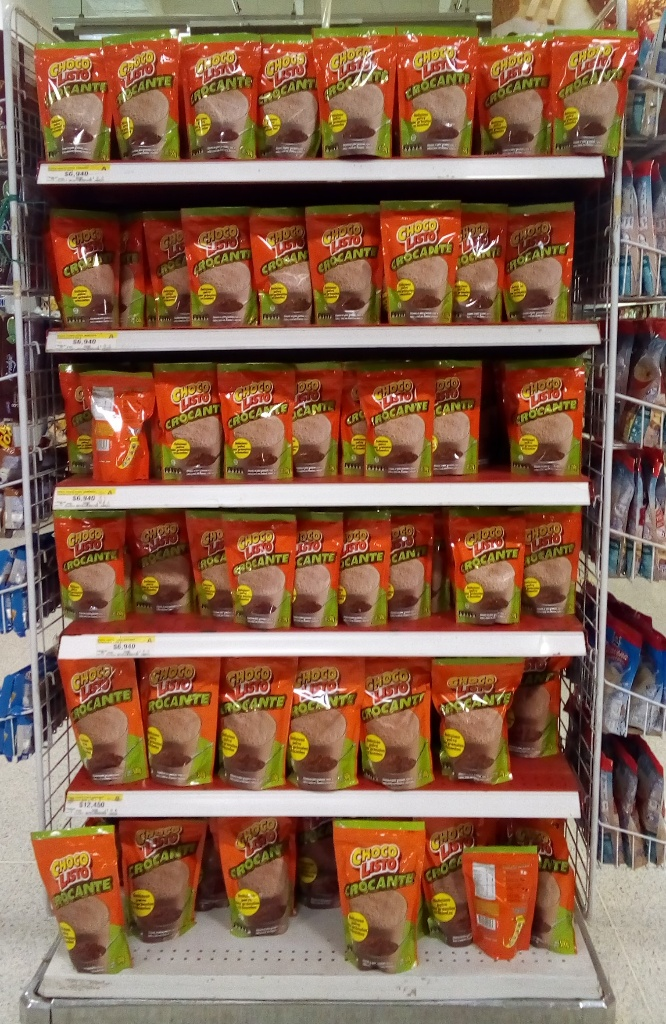COL0170102DYP25000: (550, 26, 641, 157)
COL0170102DYP50000: (514, 655, 573, 767)
